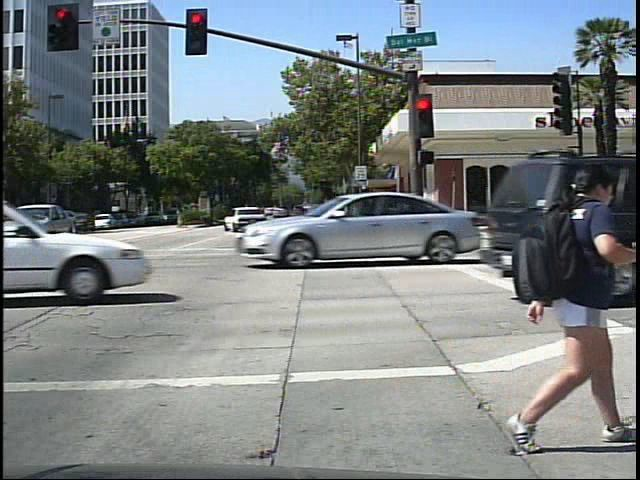person: (503, 128, 634, 460)
